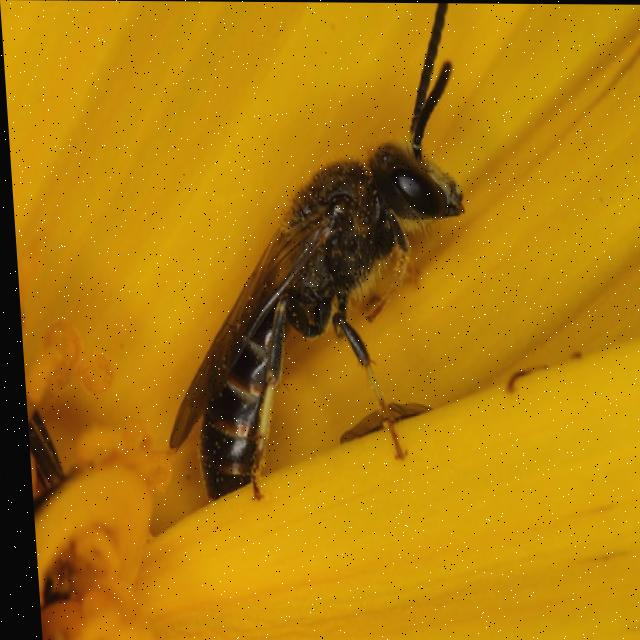Lasioglossum: (158, 1, 483, 529)
